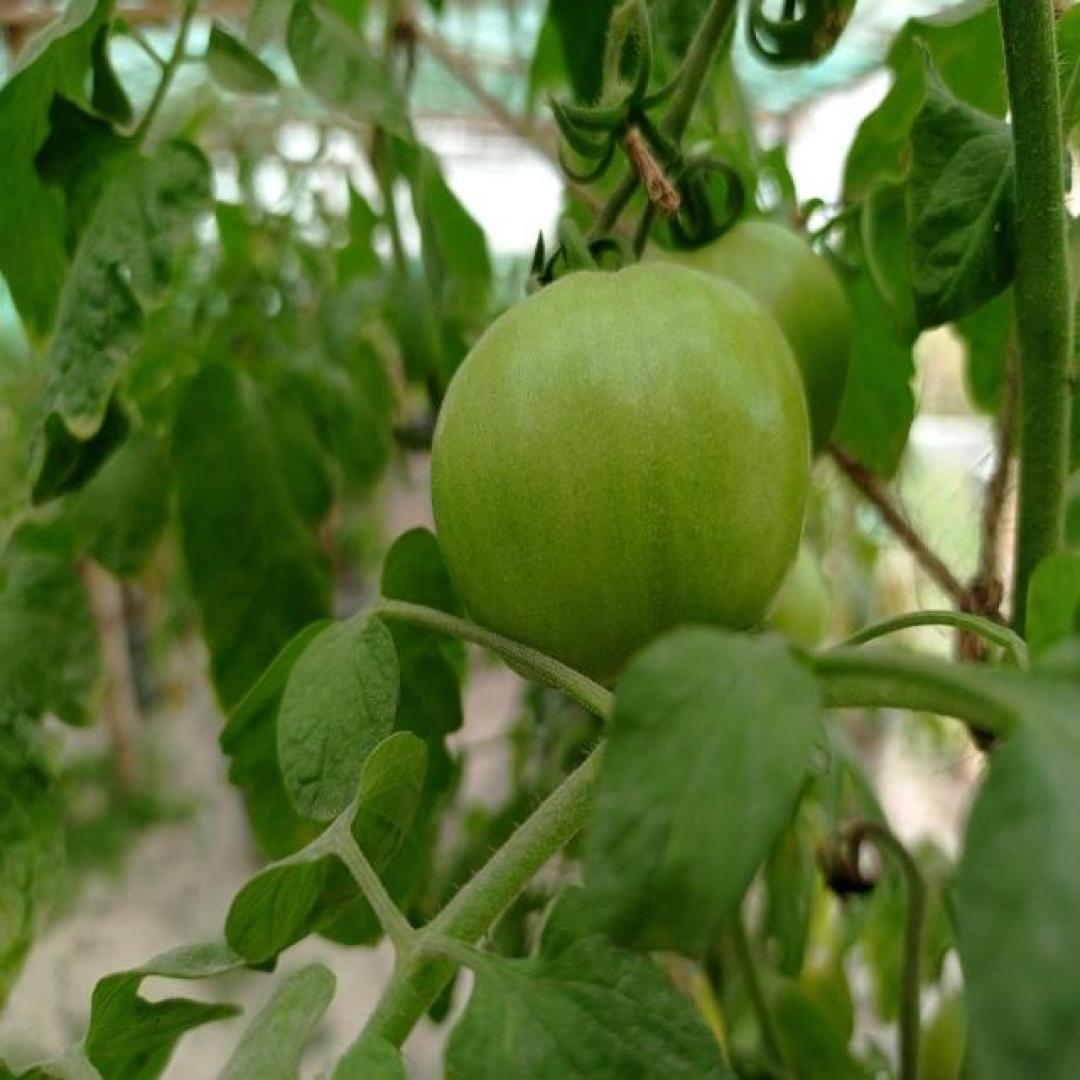mentah: (429, 260, 810, 695)
